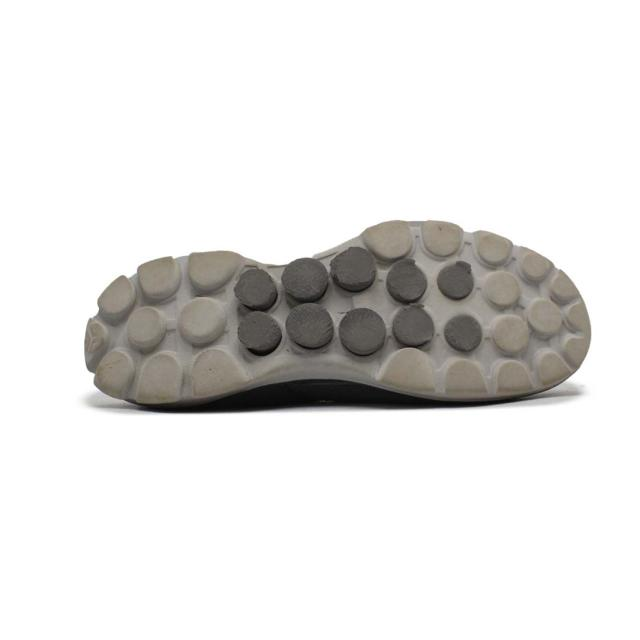outersole: (82, 217, 592, 406)
